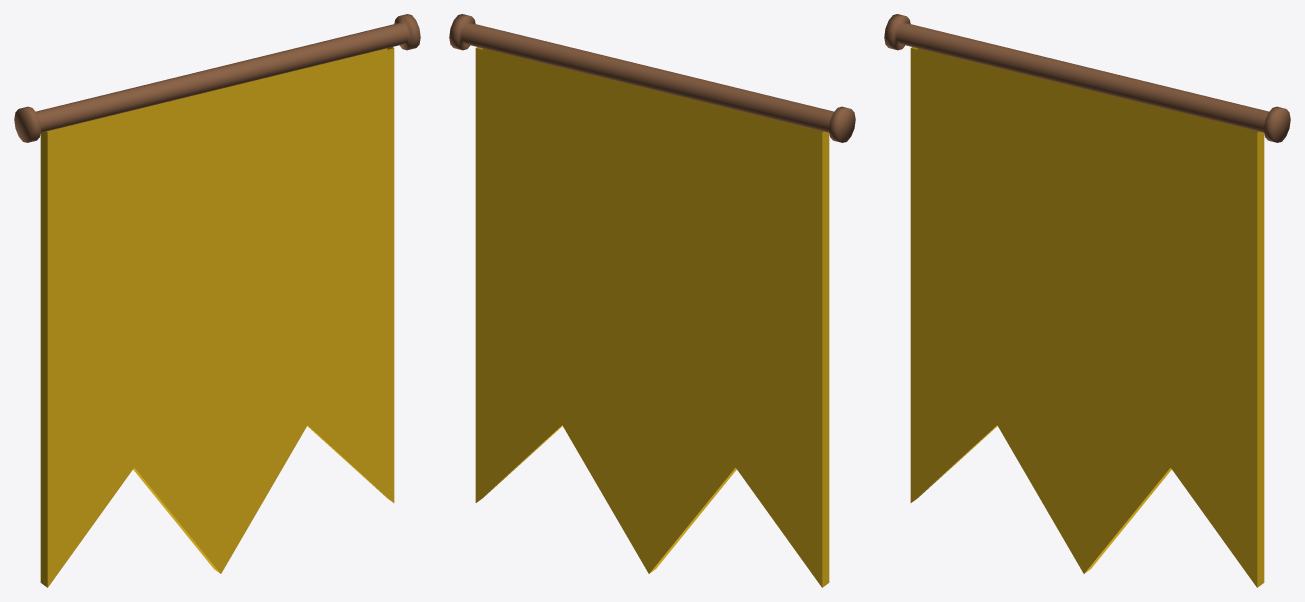
The model's file is Banner.fbx.
3 views of the same model, side by side, from view 1: azimuth 30°, elevation 25°; view 2: azimuth 150°, elevation 25°; view 3: azimuth 330°, elevation 25° (orthographic).
Parts seen in each view (by area): view 1: Arena_Flag_Banner_003; view 2: Arena_Flag_Banner_003; view 3: Arena_Flag_Banner_003.
Boxes of the visible parts, x1,y1,x2,y2 form: Arena_Flag_Banner_003: [14, 14, 420, 587]; Arena_Flag_Banner_003: [449, 14, 855, 587]; Arena_Flag_Banner_003: [884, 14, 1290, 587].
Size of the model in its own units: 8.41 by 10.52 by 0.6597.
